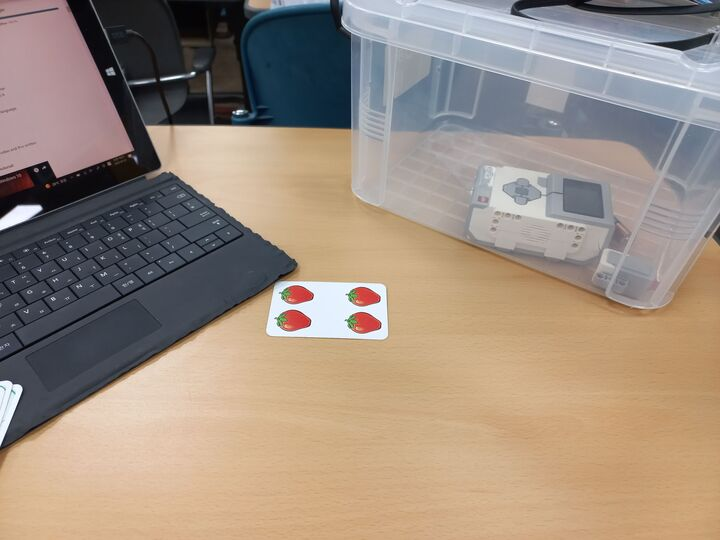strawberry4: (265, 279, 391, 342)
